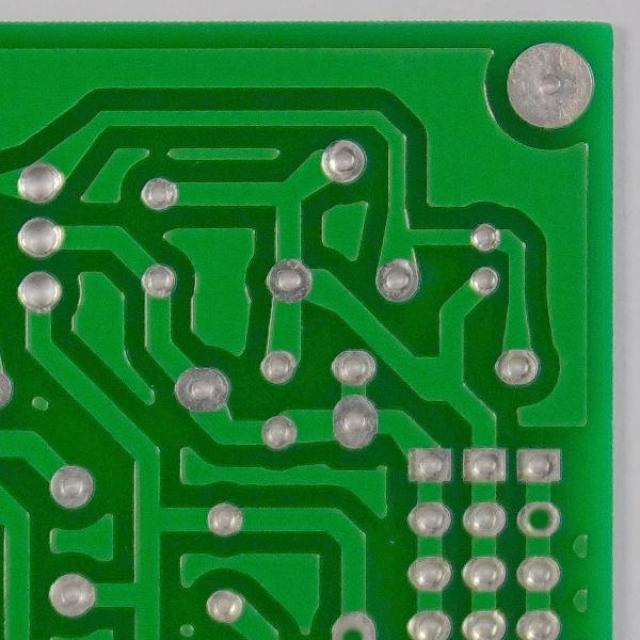Missing_Hole: (513, 499, 564, 540), (324, 609, 380, 640)
